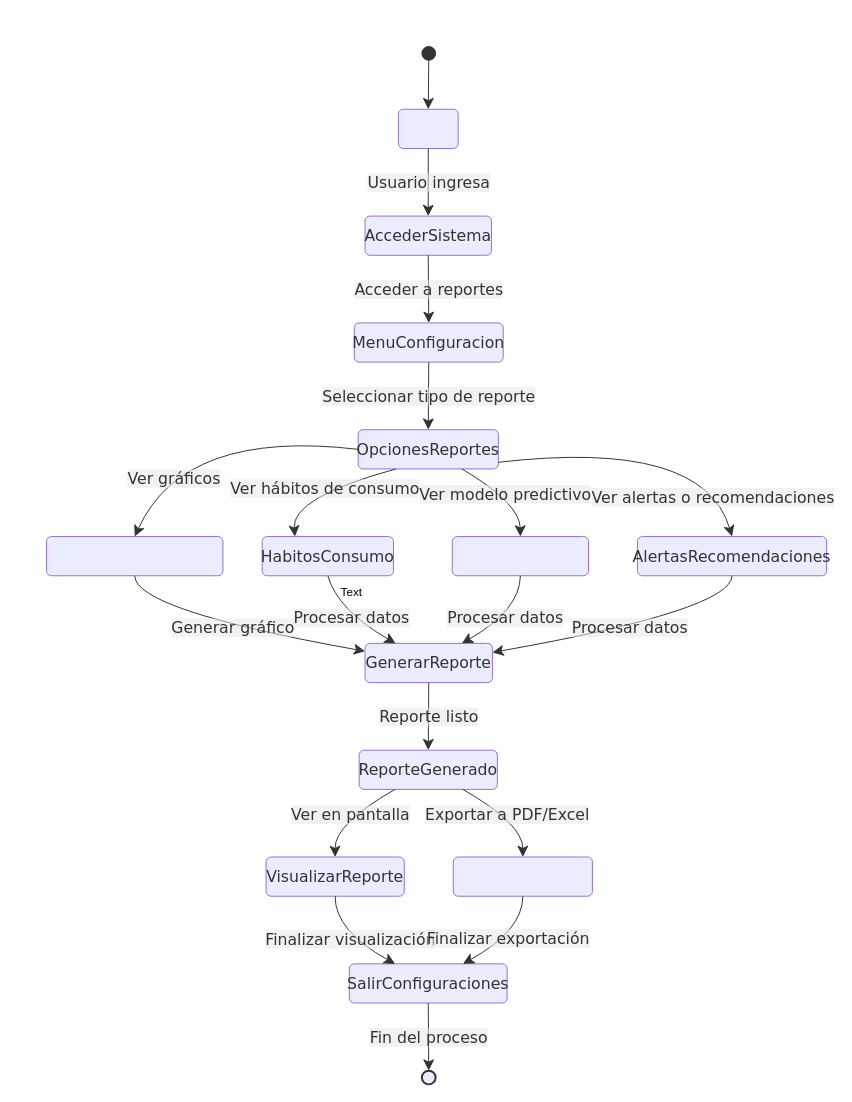
Some shapes in this 852 by 1102 pixel diagram are drawn without their labels. Here are the shapes that lost their labels. From the top down, the centre of each, then its label:
At (427,128): "Iniciar".
At (134,556): "GraficosPersonalizados".
At (519,556): "ModeloPredictivo".
At (522,876): "ExportarPDFExcel".
